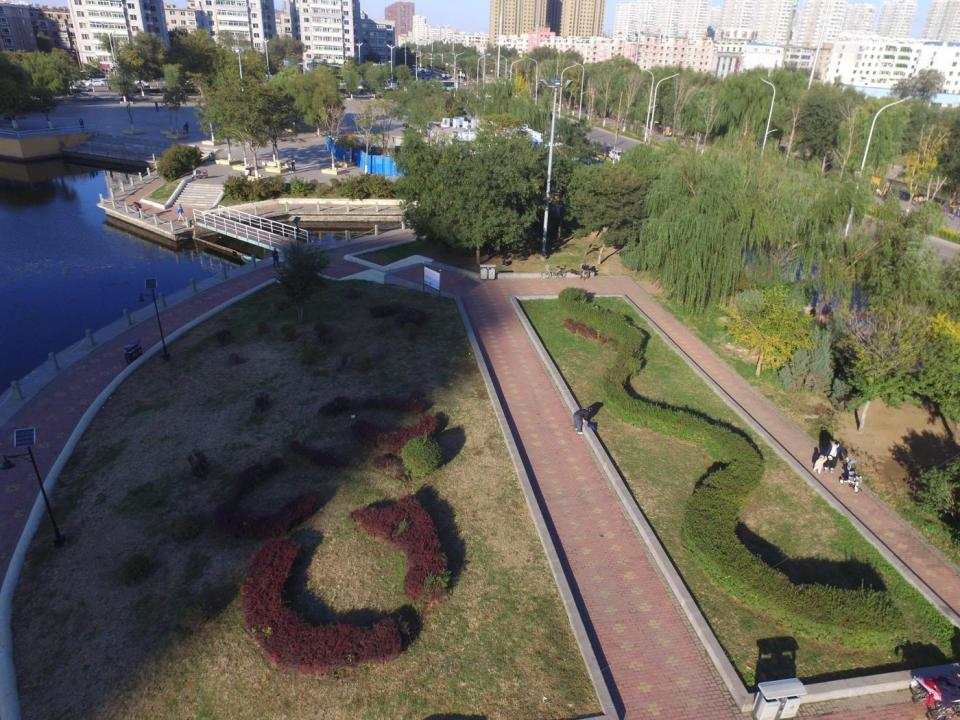bus: (426, 80, 460, 96)
car: (608, 149, 636, 168), (592, 144, 615, 158), (70, 84, 95, 92), (138, 84, 158, 93), (98, 78, 117, 87), (85, 80, 107, 87)
van: (74, 76, 96, 88)
